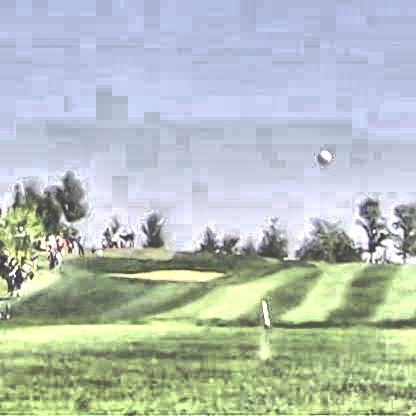golfball: (314, 147, 329, 163)
